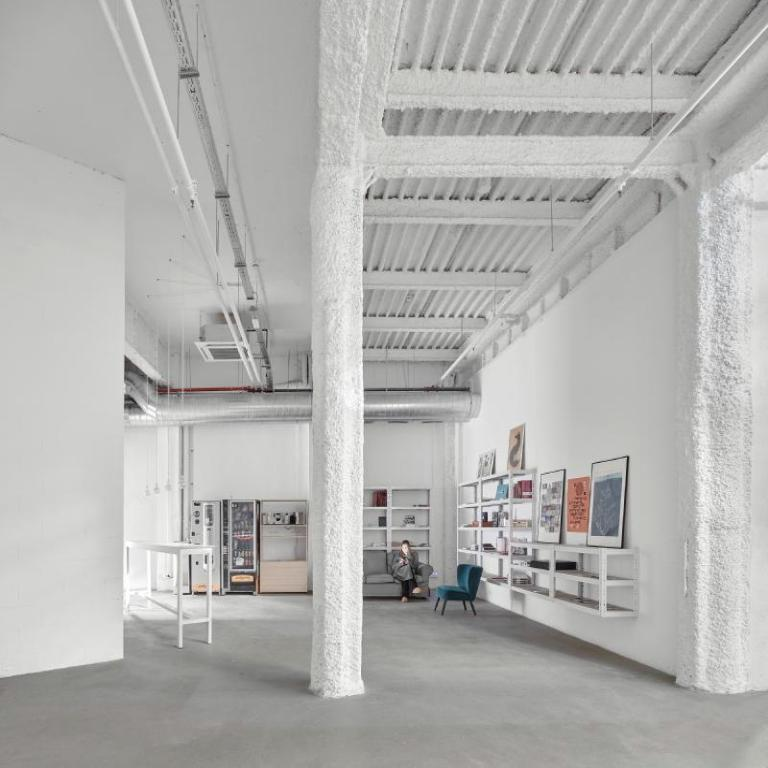white-walls: (7, 162, 113, 638)
